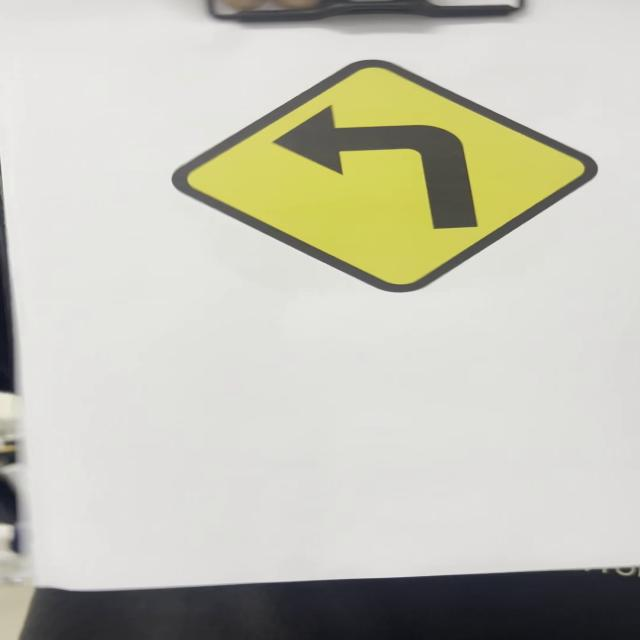left: (175, 60, 597, 299)
